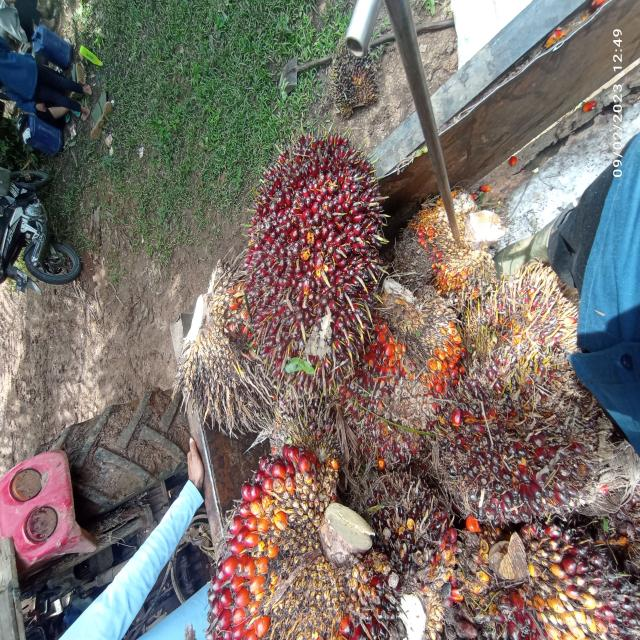fraksi 00: (347, 447, 446, 584)
fraksi 1: (208, 78, 416, 420), (180, 442, 415, 640), (423, 268, 598, 524)
fraksi 4: (365, 282, 464, 404)
